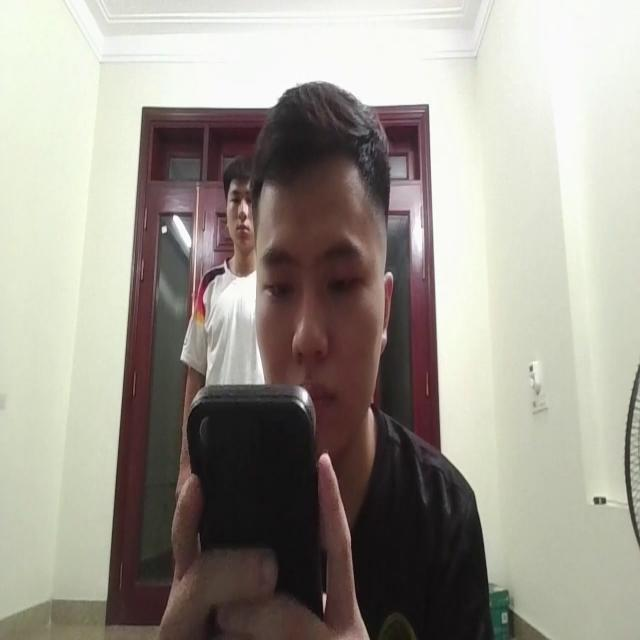extra_person: (182, 154, 255, 388)
phone: (186, 378, 334, 627)
student: (256, 95, 496, 640)
